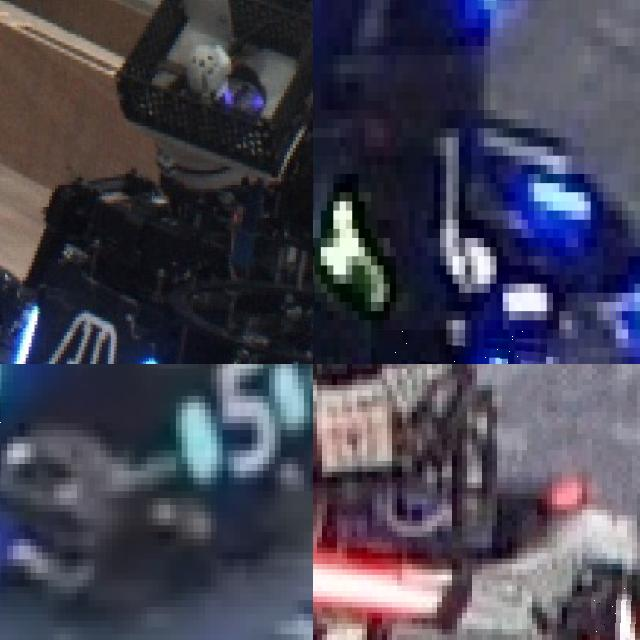B4: (371, 329, 546, 364)
B5: (176, 364, 310, 470)
R4: (587, 585, 640, 640)
